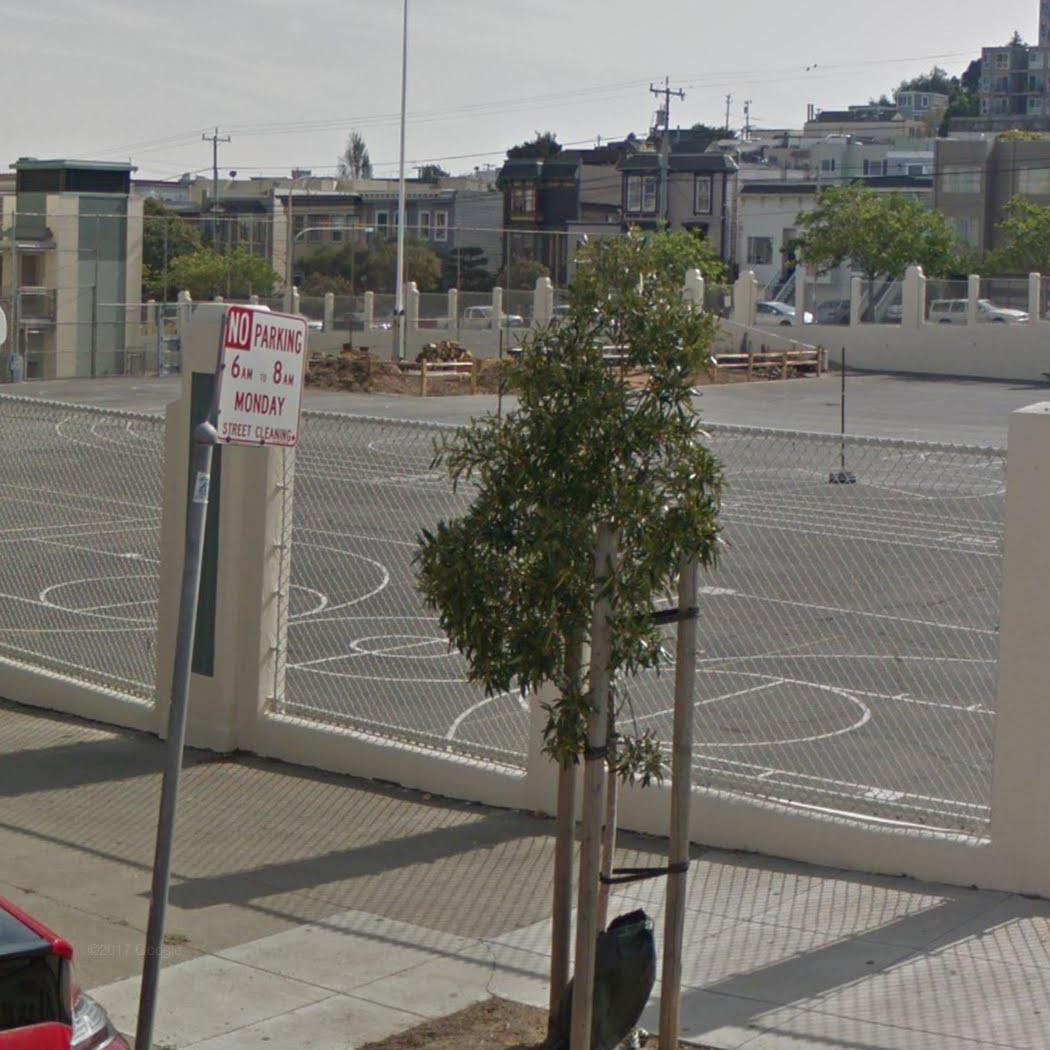No Parking: (216, 301, 310, 451)
